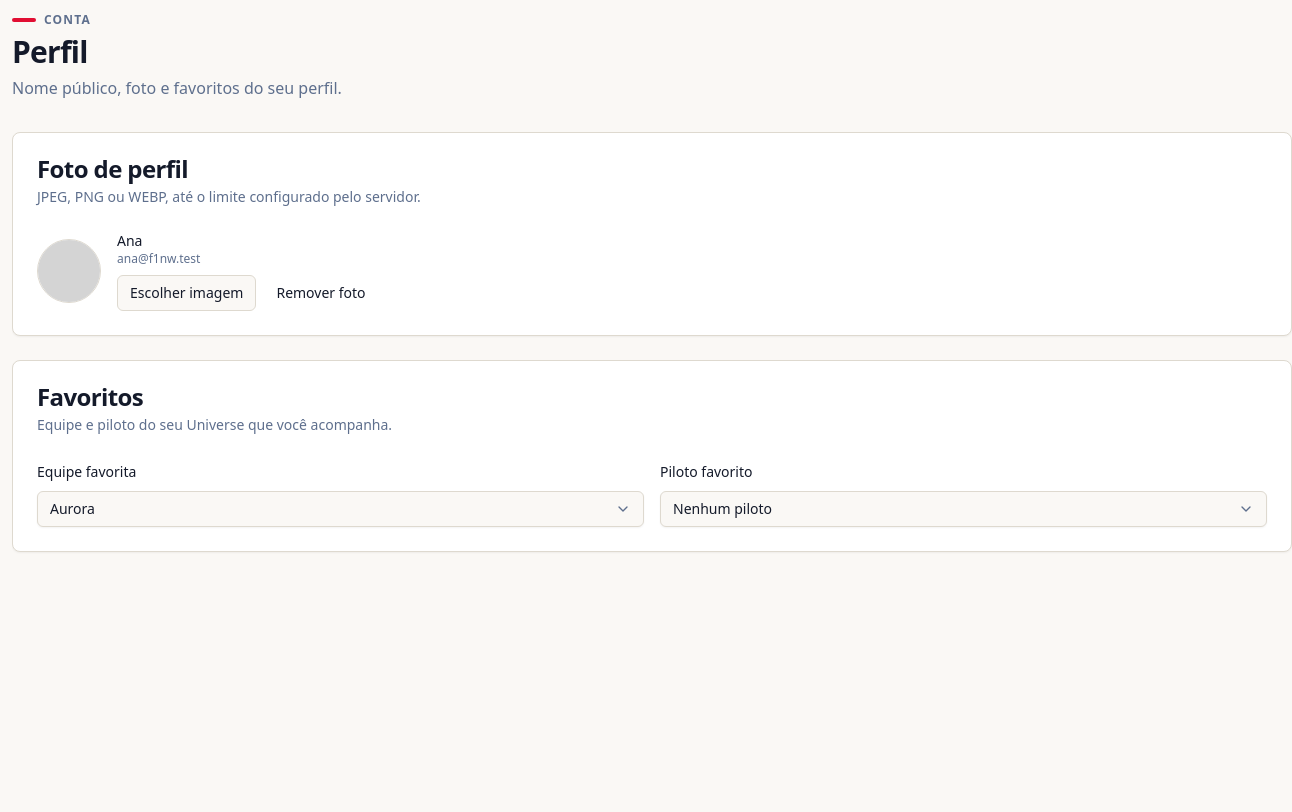
Test: ProfilePage › mostra erro da API em falha de favorito
This screenshot has width=1292, height=812.
Expected: the text "Ana" is shown, [117,231,142,250]
Click the button with aria-label "Equipe favorita".
click(72, 508)  # box [37,491,644,527]
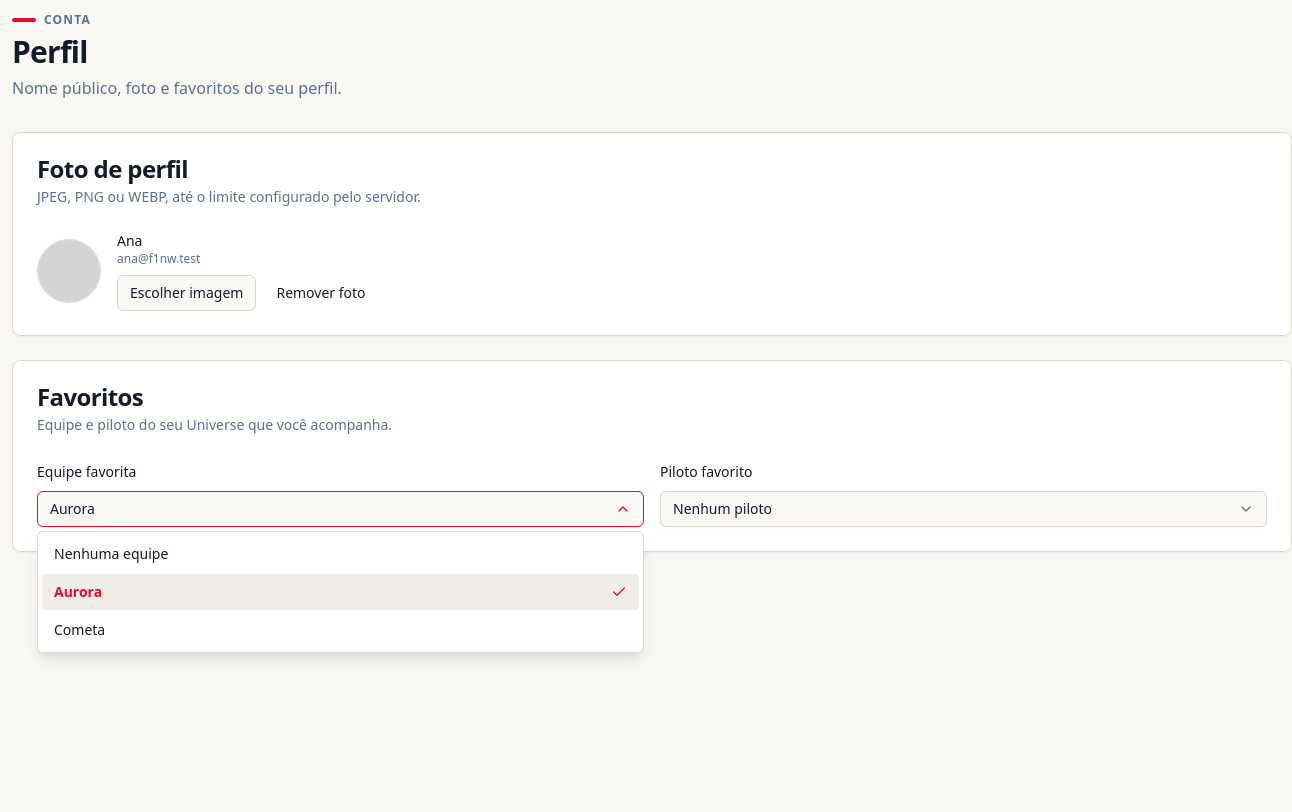
Click the option "Cometa".
click(80, 630)  # box [54,620,105,639]
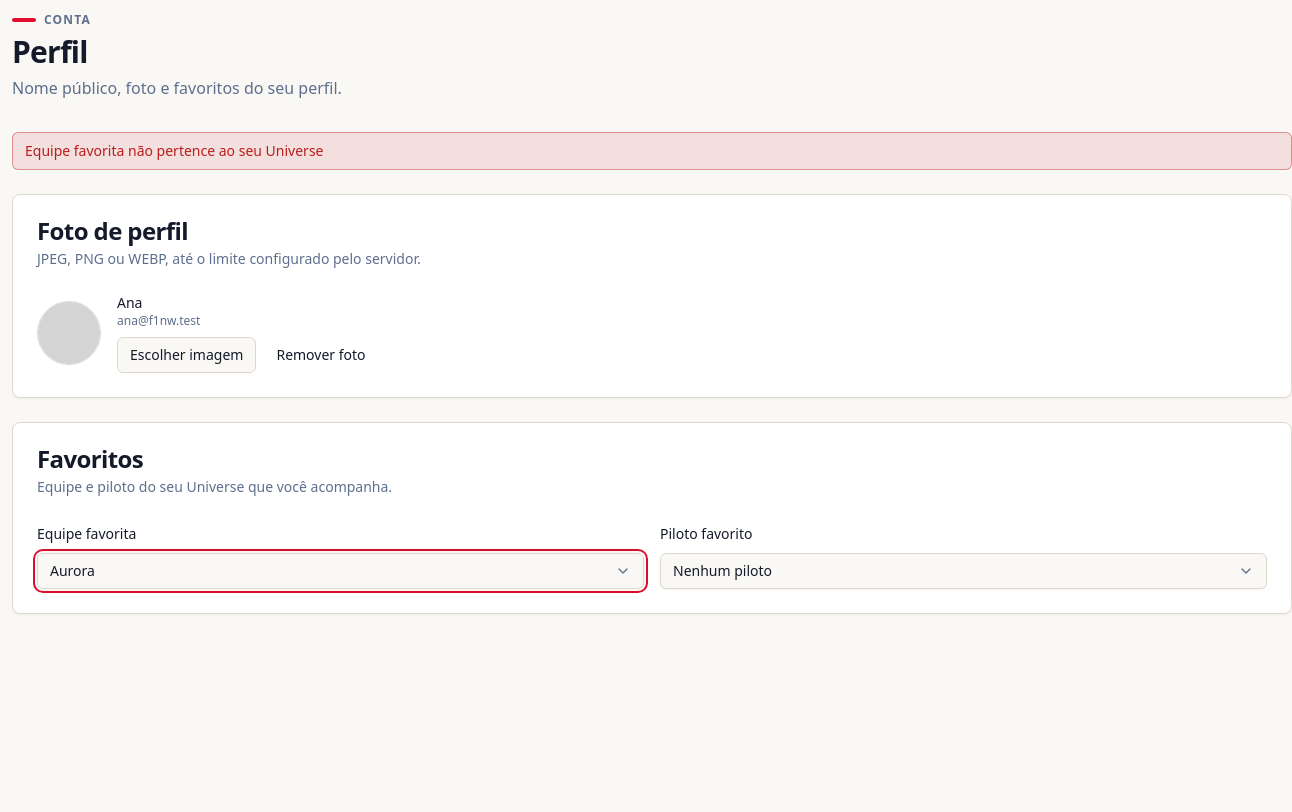
Now the message reads "Equipe favorita não pertence ao seu Universe", box [25,141,324,160]
